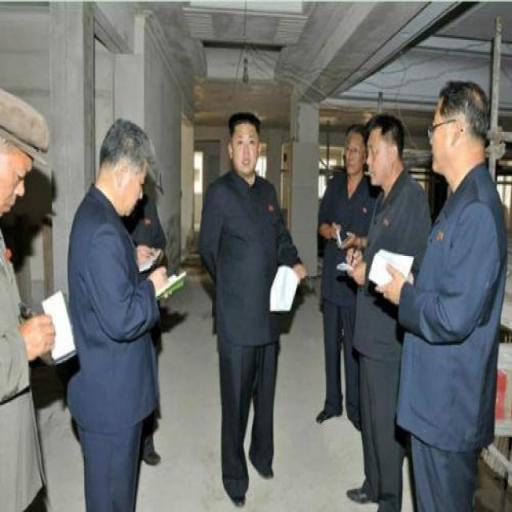person: (57, 101, 178, 511), (190, 102, 304, 504), (405, 76, 508, 503), (354, 106, 424, 511), (315, 108, 364, 430)
